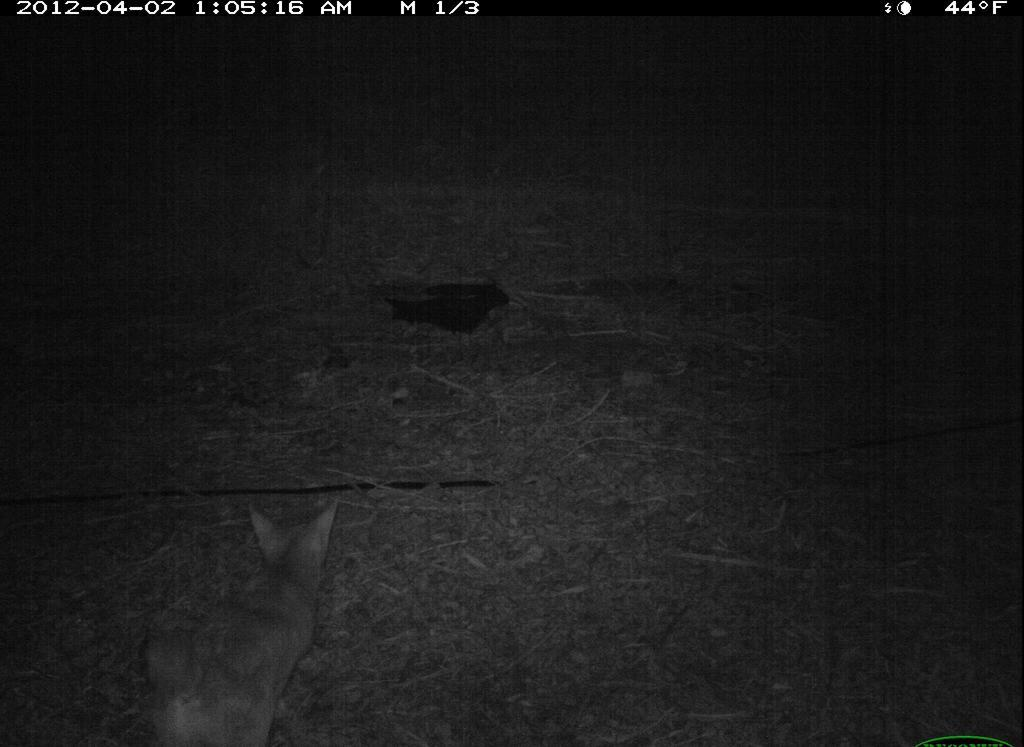coyote: (135, 484, 365, 747)
